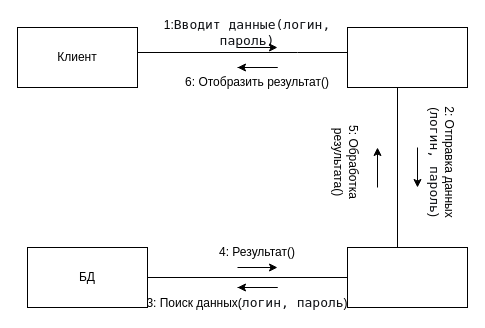
The diagram is 485 pixels wide and 328 high, and some of its shapes have lost their labels. The shapes that lost their labels are listed below. From the top down, each one's box as (x1, y1, x2, y2) in pixels, then its label:
(346, 26, 468, 88): Интерфейс
(346, 246, 468, 308): Сервер
